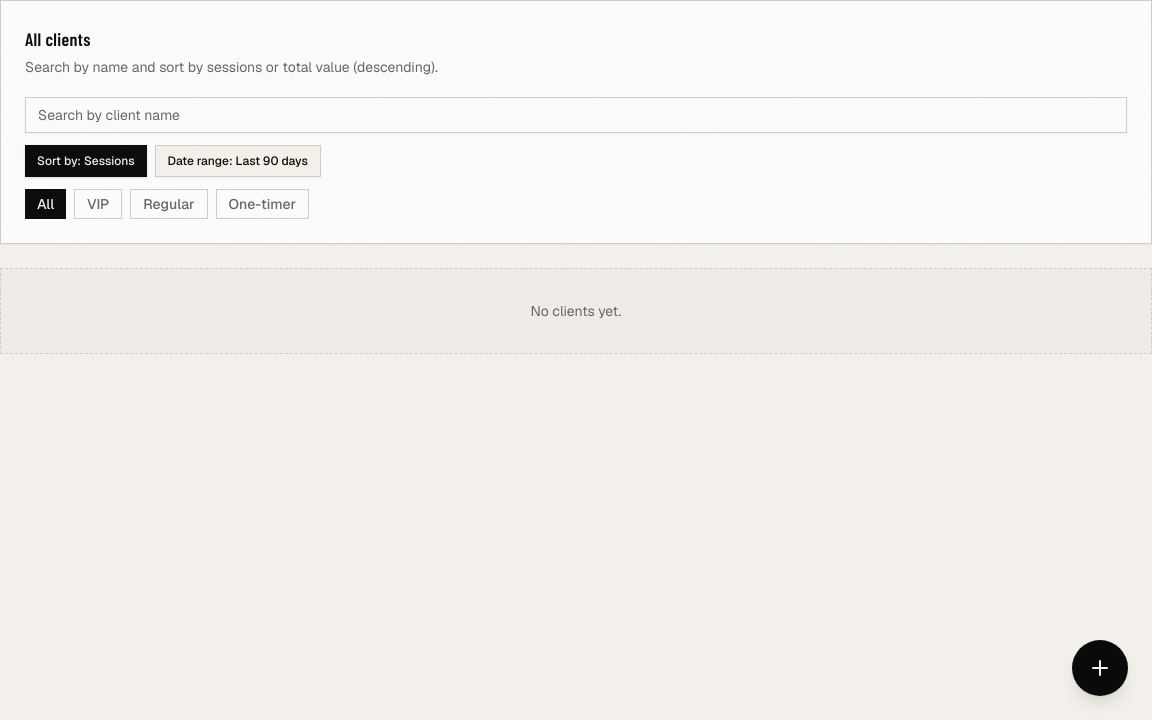
Test case: ClientsView tier filter integration › shows tier-aware empty state for One-timer
The image size is (1152, 720).
Click the button "One-timer".
click(262, 204)  # box [216,189,309,219]
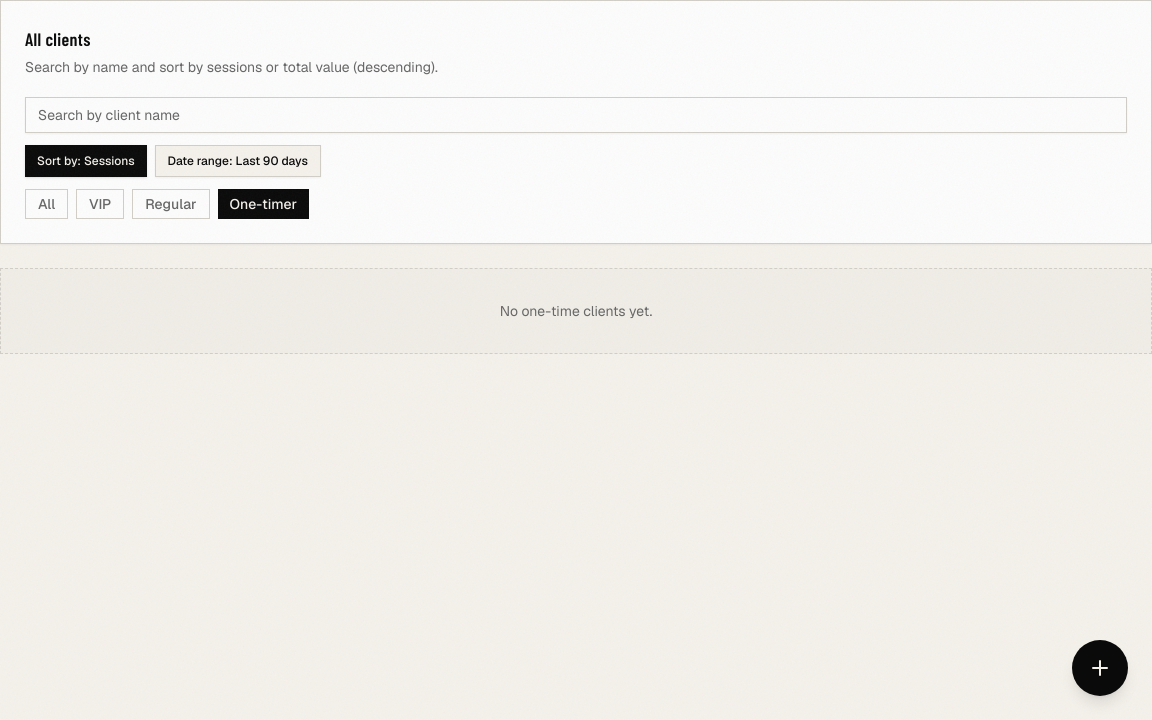
Expected: the text "No one-time clients yet." is shown, [0,268,1151,354]
